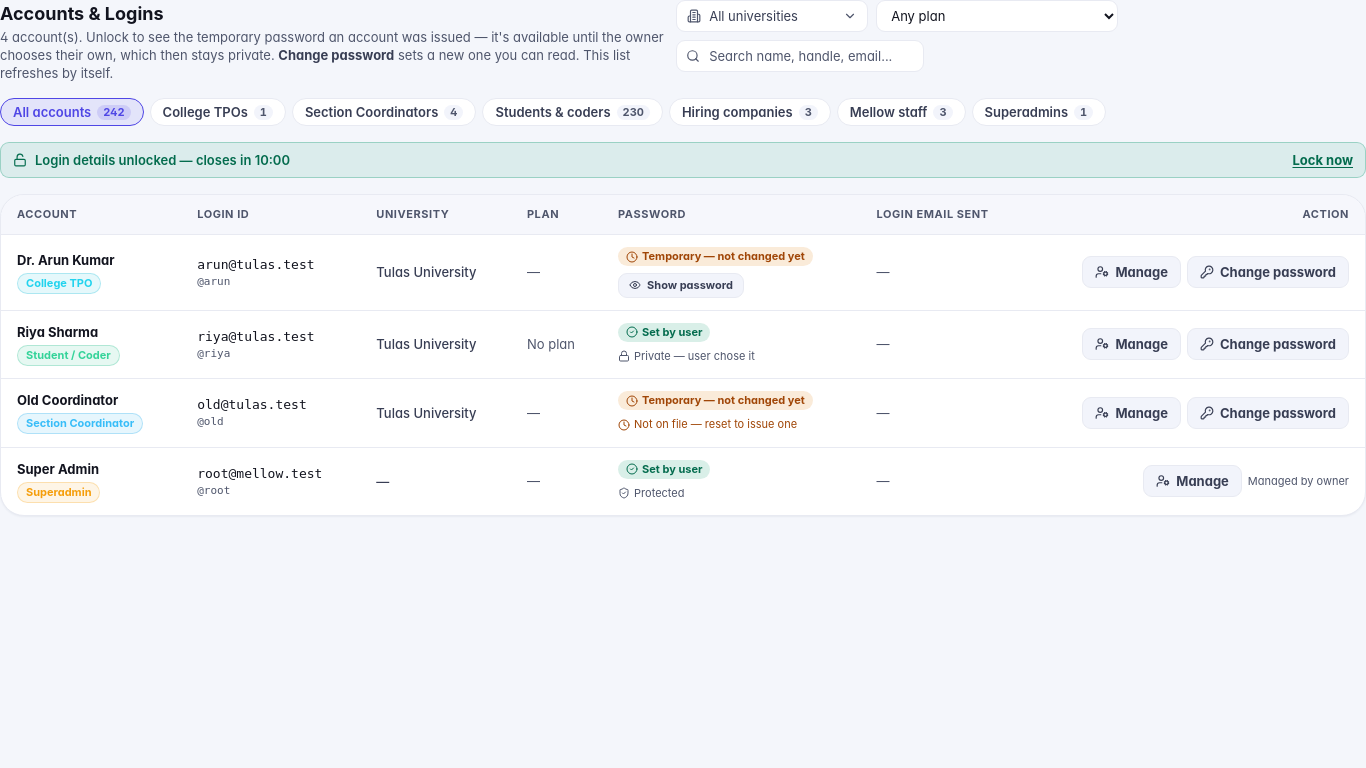
Test: issued logins › asks again when the server says the unlock has lapsed
The image size is (1366, 768).
Expected: the text "Dr. Arun Kumar" is shown, [17,252,114,268]
Click the button with aria-label "show dr. arun kumar's password" at (681,285), box [618,272,744,298]
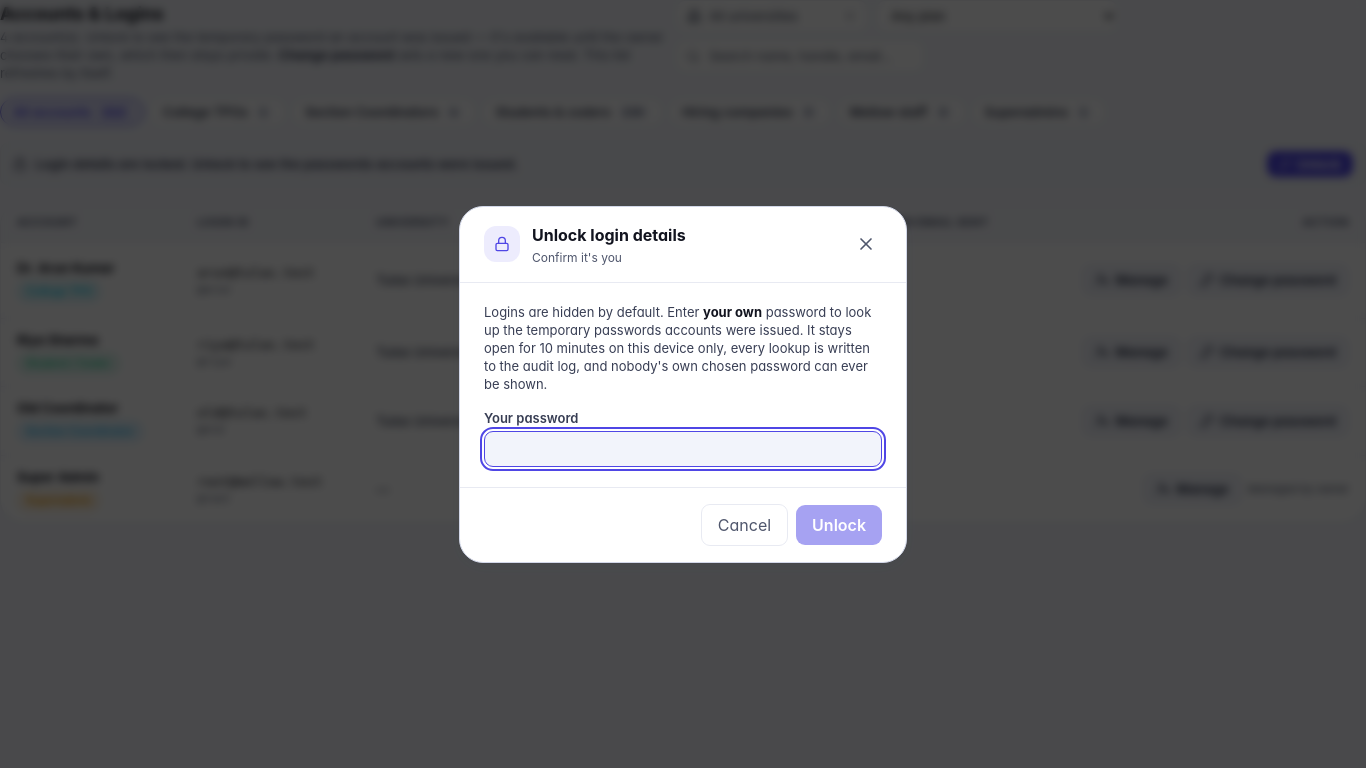
Expected: the dialog is shown, [459,206,907,562]
